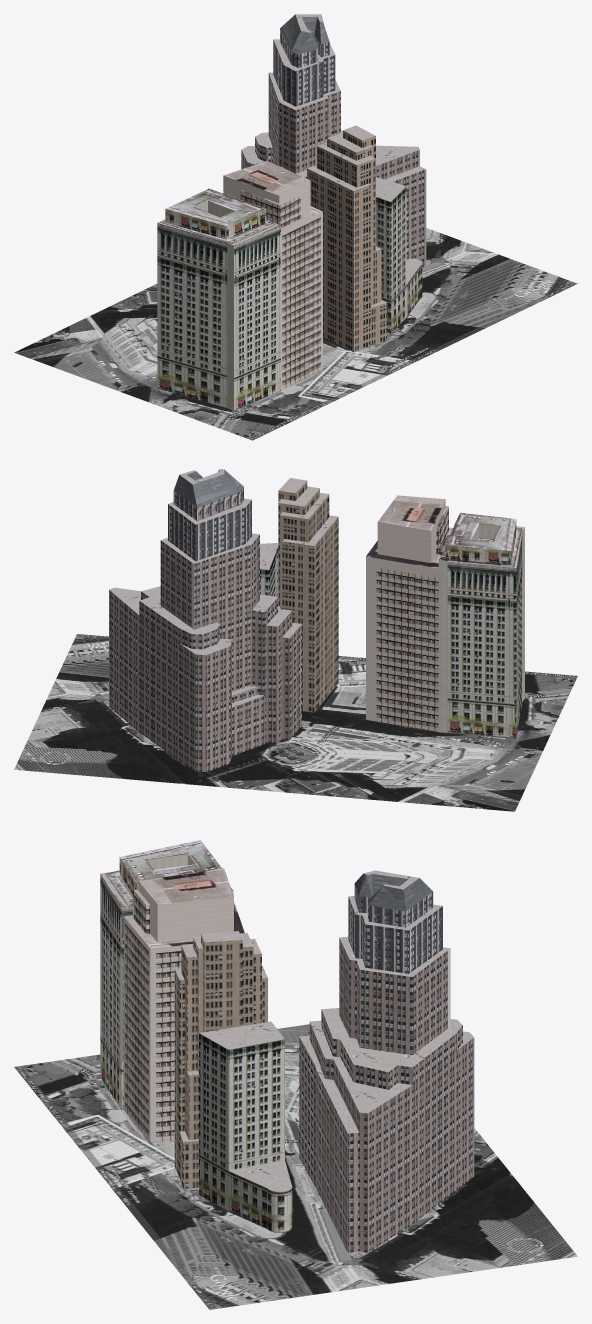
The model's file is ccc.fbx.
3 renders of one model, top to bottom at view 1: azimuth 30°, elevation 25°; view 2: azimuth 150°, elevation 25°; view 3: azimuth 270°, elevation 25°, orthographic. The views are drawn at different scales.
Visible parts, largest first — view 1: Model, Google_Earth_Snapshot; view 2: Model, Google_Earth_Snapshot; view 3: Model, Google_Earth_Snapshot.
Part boxes in pixels (x1,y1,x2,y2): Model: (157,14,426,410); Google_Earth_Snapshot: (14,228,577,440); Model: (109,469,524,772); Google_Earth_Snapshot: (14,634,577,811); Model: (100,840,474,1252); Google_Earth_Snapshot: (14,1024,577,1309).
Bounding box in the file's own units: 9855 × 4865 × 7928.
